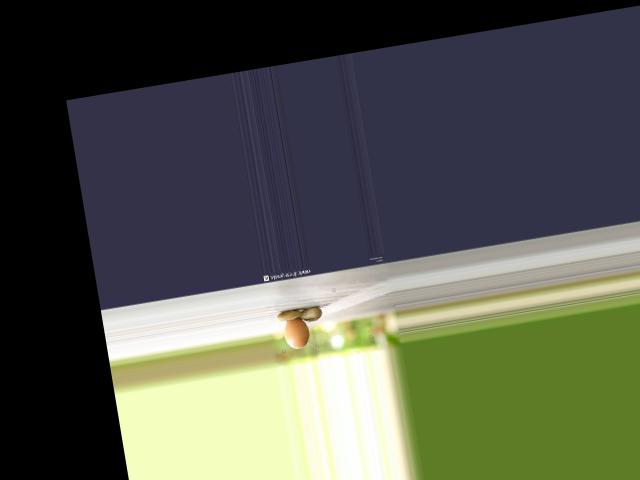egg: (282, 316, 312, 349)
